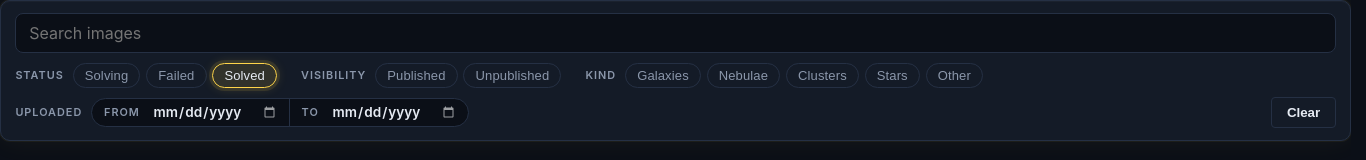
ListFilters › Clear inside the typing pause drops the pending search and empties the box
Type "m3" into the search field labelled "Search images" at (676,33), box [15,13,1336,53]
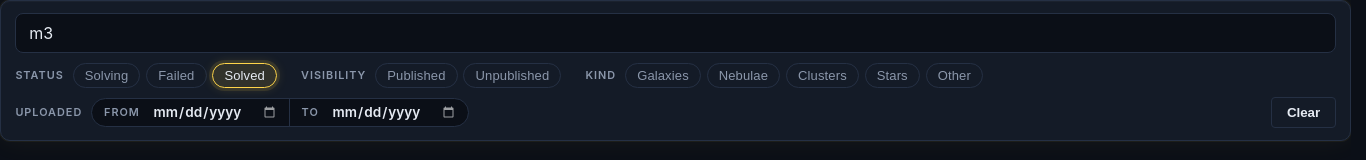
Click the button "Clear" at (1304,112), box [1272,97,1336,128]
Wait 250 ms
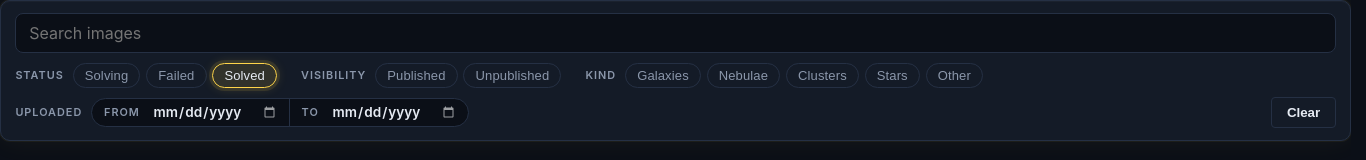
Now the search field labelled "Search images" is empty, box [15,13,1336,53]
